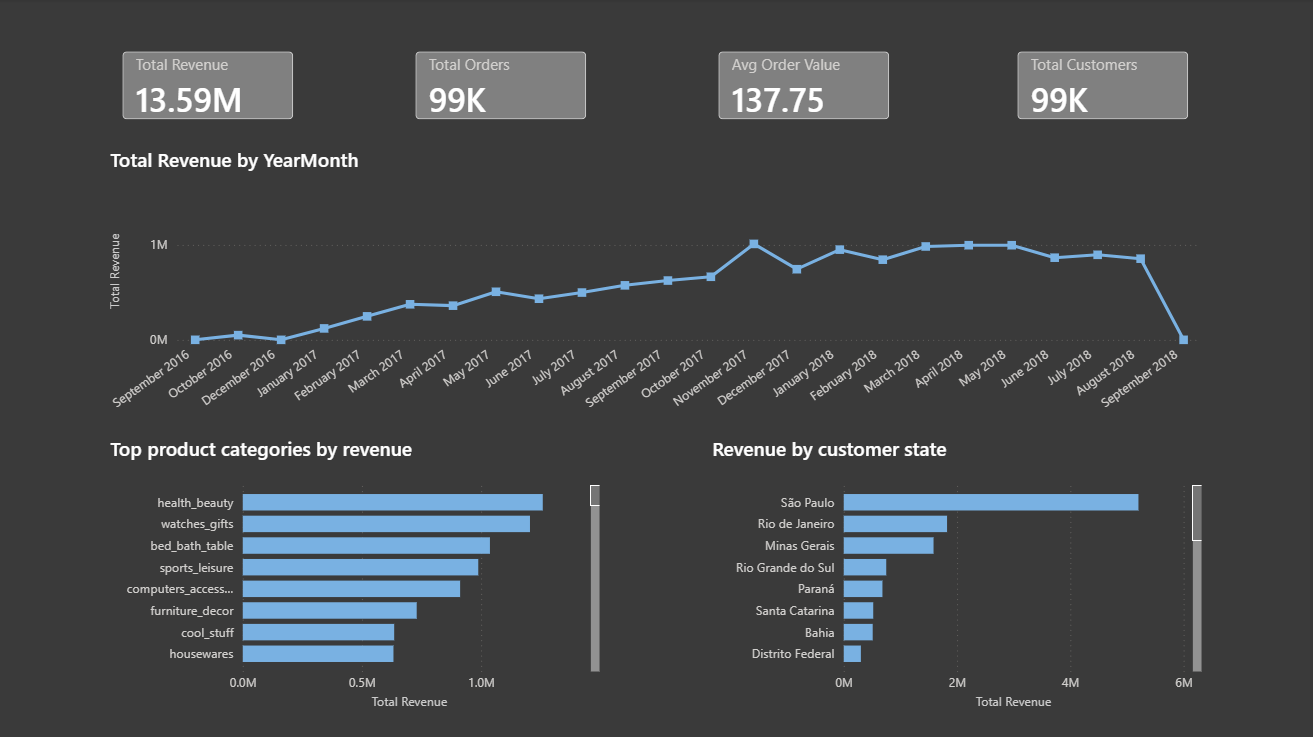

The page's visual inventory and layout, read from the dashboard file:
{"tool":"powerbi","page":{"name":"Olist Sales Overview","canvas":[1280,720],"ordinal":0},"visuals":[{"type":"cardVisual","fields":{"Data":["fact_order_items.Total Revenue"]},"box":[104.1,34,200,100],"z":0},{"type":"cardVisual","fields":{"Data":["fact_order_items.Total Orders"]},"box":[389.1,34,200.4,100.2],"z":1},{"type":"cardVisual","fields":{"Data":["fact_order_items.Avg Order Value"]},"box":[683.8,34,200.4,100.2],"z":2},{"type":"cardVisual","fields":{"Data":["fact_order_items.Total Customers"]},"box":[974.6,34,200.4,100.2],"z":3},{"type":"lineChart","fields":{"Category":["dim_date.YearMonth"],"Y":["fact_order_items.Total Revenue"]},"box":[104,143.1,1070.8,267.7],"z":4},{"type":"clusteredBarChart","title":"Top product categories by revenue","fields":{"Category":["dim_product.product_category_name_english"],"Y":["fact_order_items.Total Revenue"]},"box":[104,423.8,485.6,272],"z":5},{"type":"clusteredBarChart","title":"Revenue by customer state","fields":{"Category":["dim_customer.CustomerStateFullName"],"Y":["fact_order_items.Total Revenue"]},"box":[689.3,423.8,485.6,272],"z":6}]}

Visuals, with their boxes in screenshot pixels (x1, y1, x2, y2), scaled from the page's 1280x720 canvas onto the 1313x737 screenshot:
cardVisual - fact_order_items.Total Revenue: [107,35,312,137]
cardVisual - fact_order_items.Total Orders: [399,35,605,137]
cardVisual - fact_order_items.Avg Order Value: [701,35,907,137]
cardVisual - fact_order_items.Total Customers: [1000,35,1205,137]
lineChart - dim_date.YearMonth x fact_order_items.Total Revenue: [107,146,1205,420]
"Top product categories by revenue" clusteredBarChart: [107,434,605,712]
"Revenue by customer state" clusteredBarChart: [707,434,1205,712]
